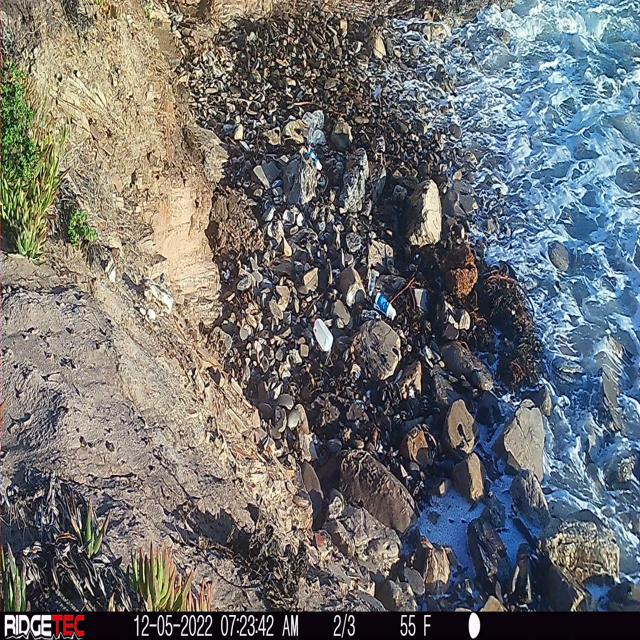bird: (365, 124, 389, 169)
